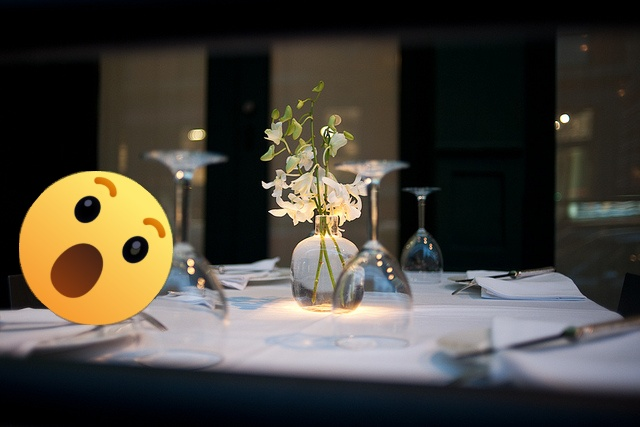wow: (19, 171, 173, 325)
